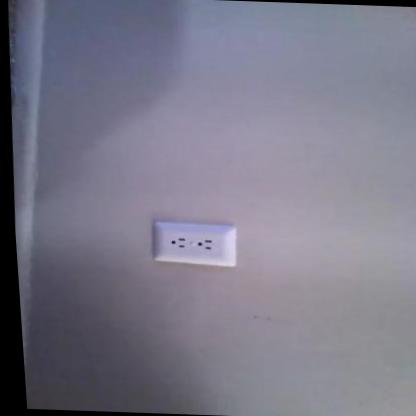OUTLET: (150, 221, 238, 268)
